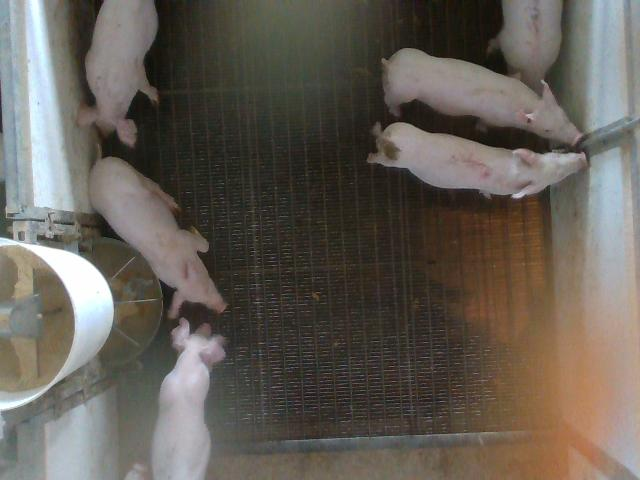pig-3: (496, 0, 562, 94)
pig-5: (368, 122, 586, 198)
